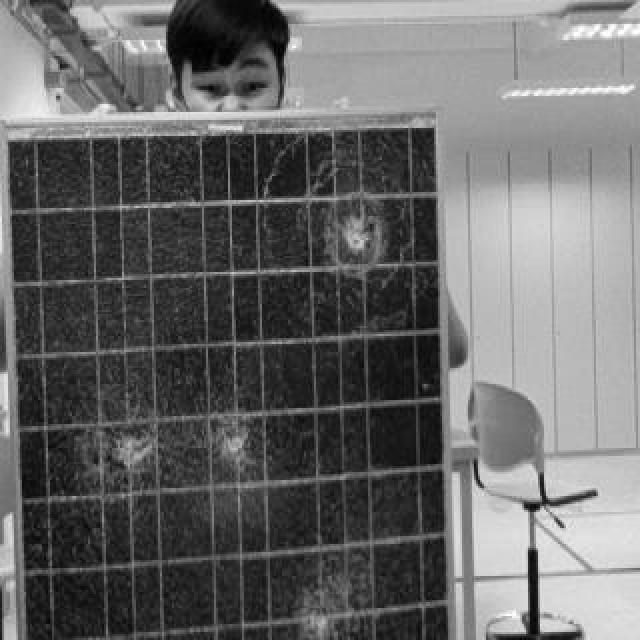Physical-damage: (270, 138, 438, 326), (88, 398, 262, 480), (276, 569, 405, 640)
